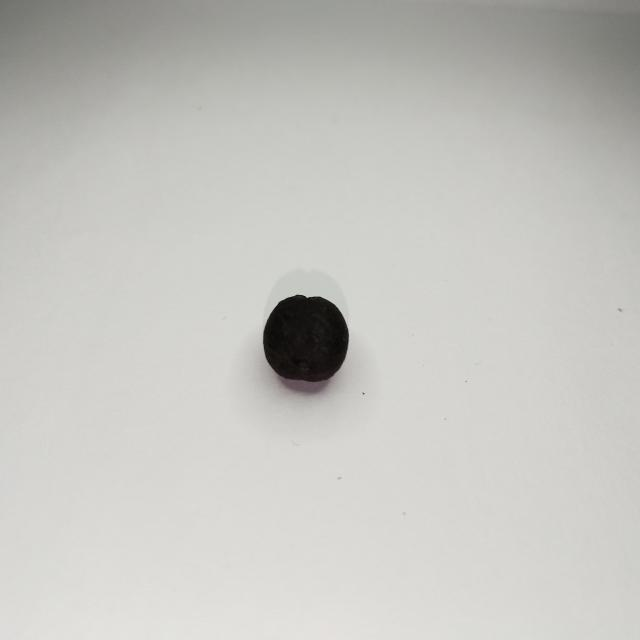Danado: (263, 296, 352, 385)
